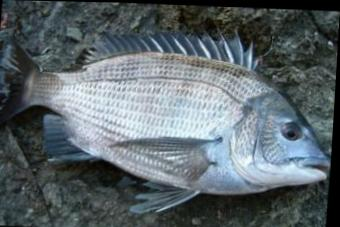fish: (0, 22, 332, 213)
